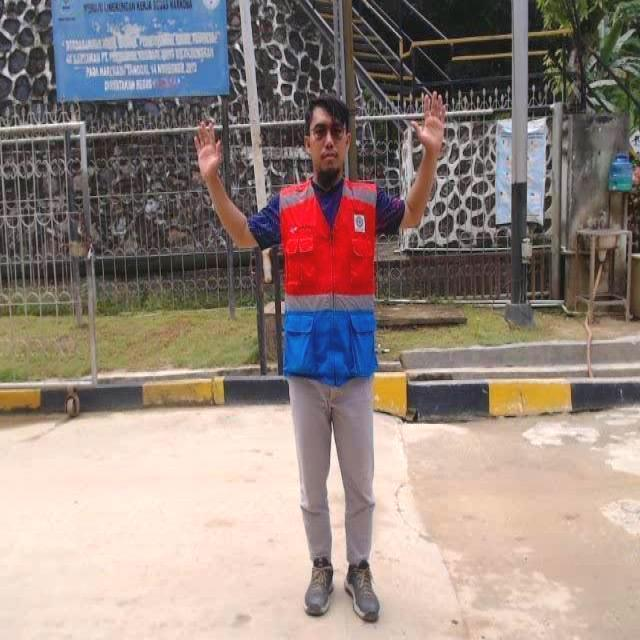vest: (277, 177, 385, 379)
